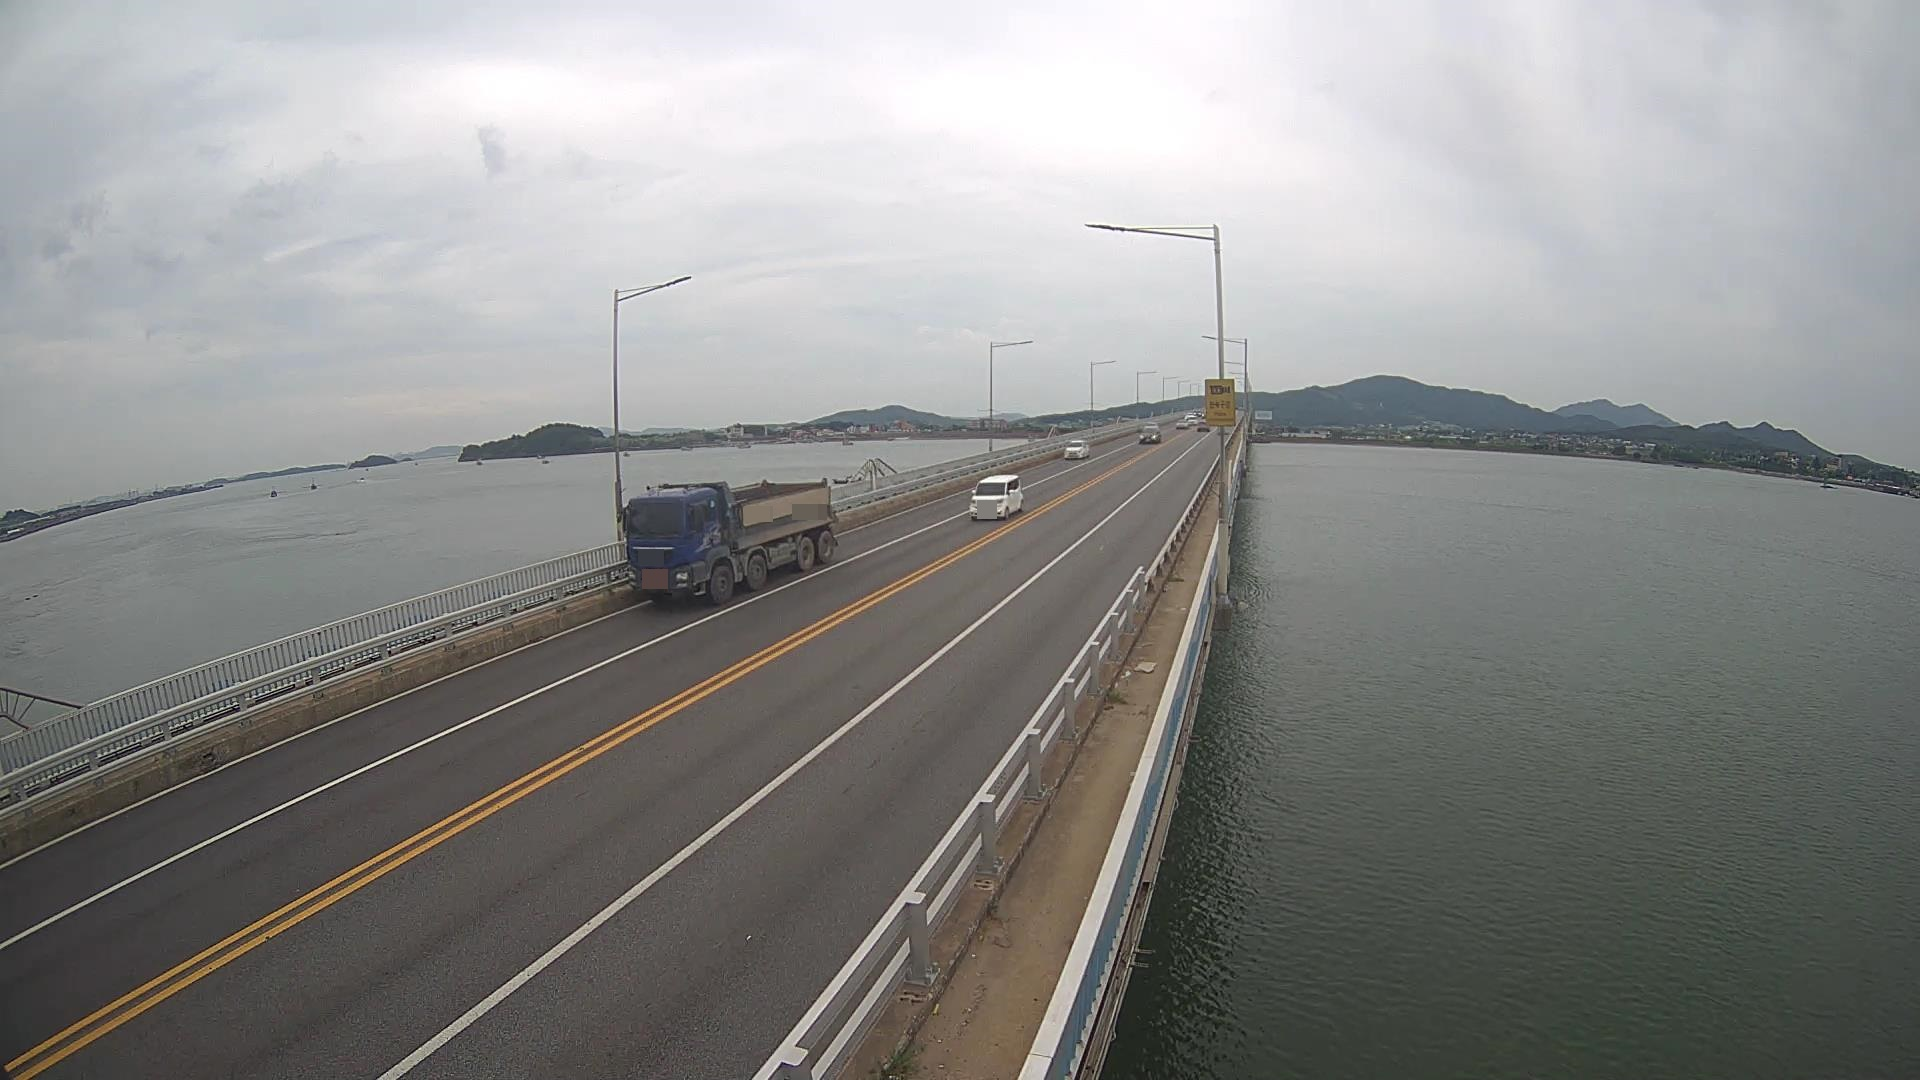정상차량: (617, 476, 841, 607)
